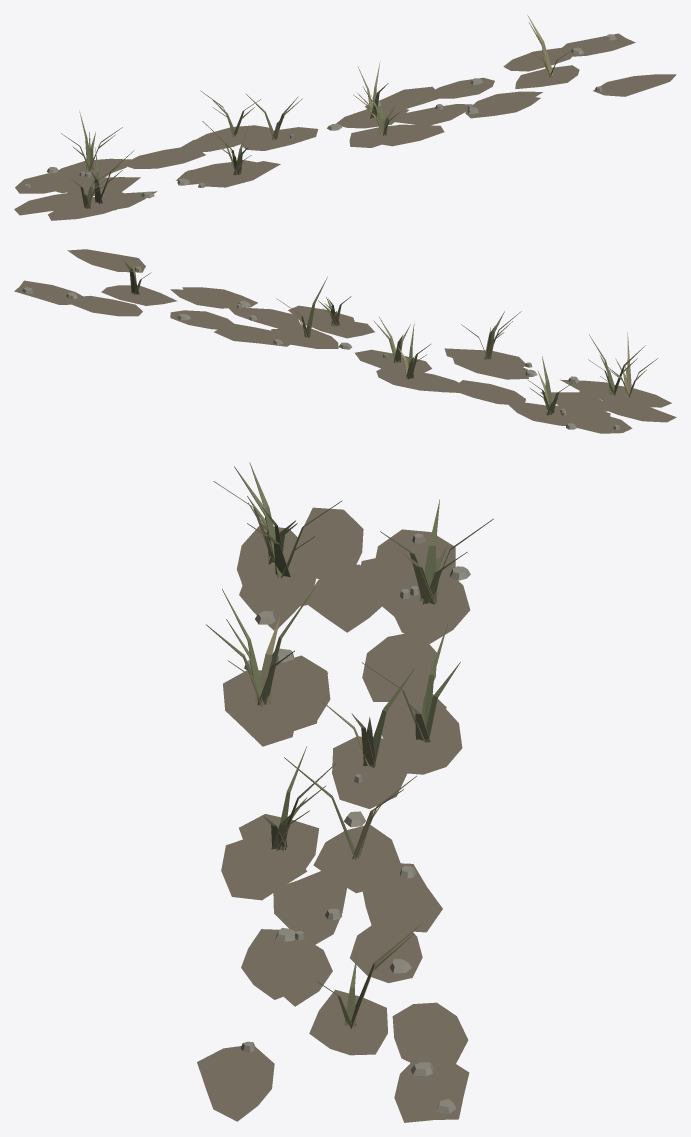
Rendered from WallWeeds_Dust.fbx.
The picture shows the model from 3 angles, top to bottom: view 1: azimuth 30°, elevation 25°; view 2: azimuth 150°, elevation 25°; view 3: azimuth 270°, elevation 25°; orthographic projection. The views are drawn at different scales.
Visible parts, largest first — view 1: WallWeeds_Dust; view 2: WallWeeds_Dust; view 3: WallWeeds_Dust.
Part boxes in pixels (bbox=[...]): WallWeeds_Dust: bbox=[14, 15, 676, 220]; WallWeeds_Dust: bbox=[14, 249, 676, 433]; WallWeeds_Dust: bbox=[197, 462, 493, 1122].
Bounding box in the file's own units: 313 × 23.77 × 63.92.
